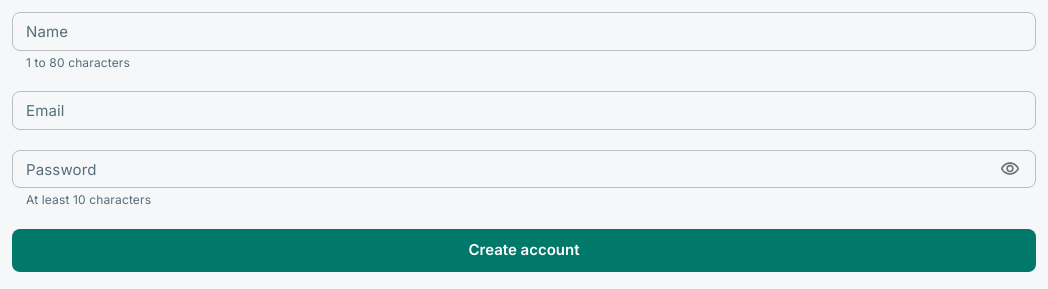
it: SignUpForm › rejects a password equal to the email, as the API does
Step 1. Type "Ada" into the field labelled "Name" → (524, 31), box [12,12,1036,51]
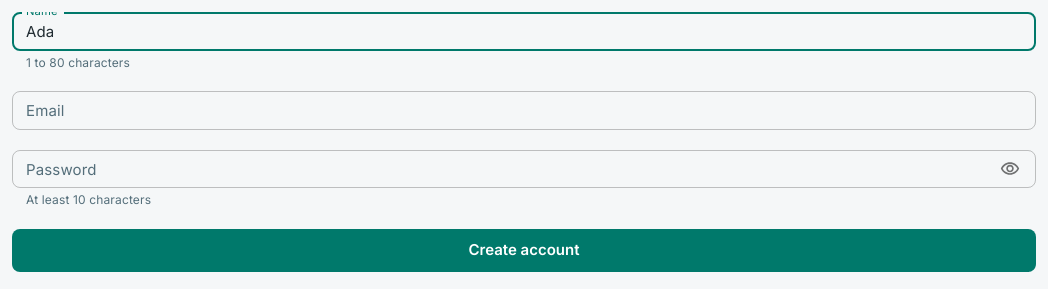
Step 2. Type "ada.lovelace@x.test" into the field labelled "Email" → (524, 111), box [12,91,1036,130]
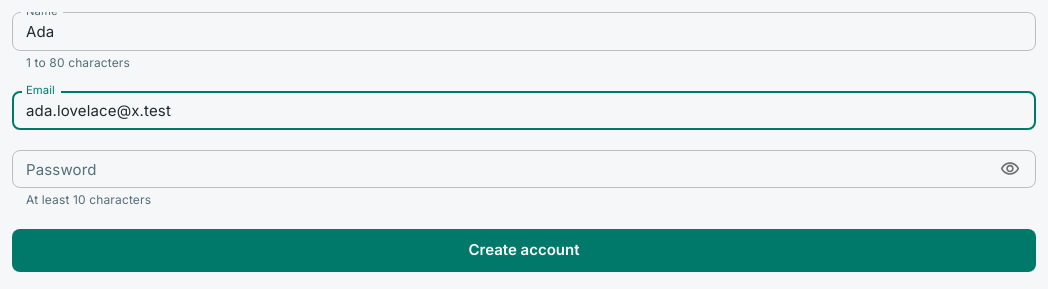
Step 3. Type "Ada.Lovelace@x.test" into the password field labelled "Password" → (500, 169), box [12,150,987,188]
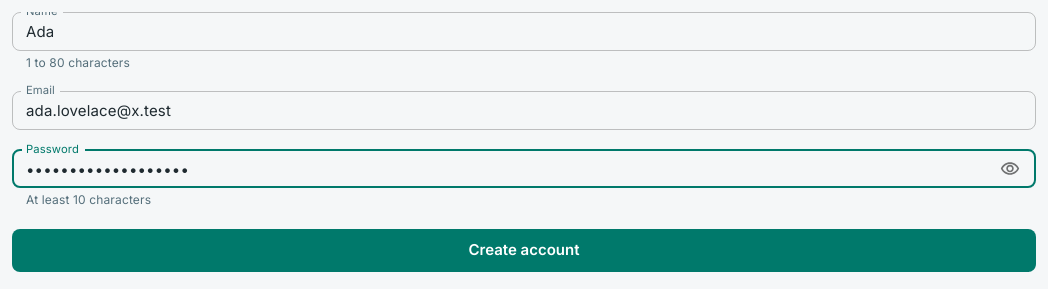
Step 4. Click the button "Create account" → click(524, 250), box [12,229,1036,272]
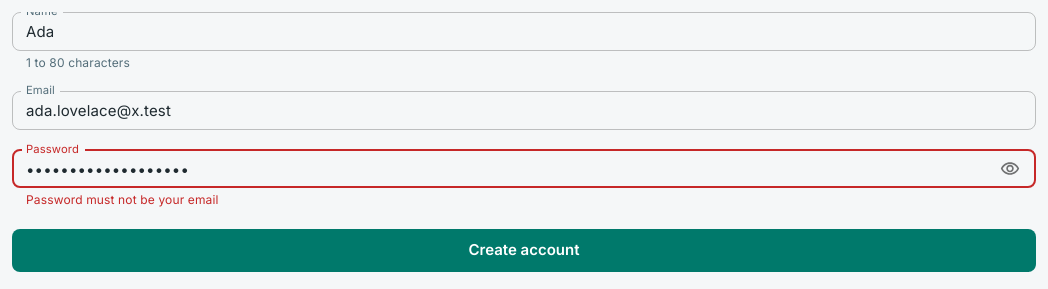
expect the text "Password must not be your email" is shown: met, box [26,192,219,208]
